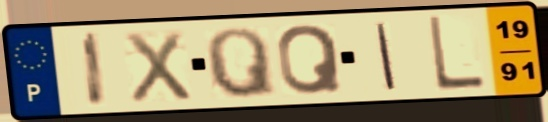I: (80, 30, 109, 108), (373, 21, 399, 92)
L: (424, 14, 487, 94)
Q: (202, 25, 280, 101), (275, 22, 346, 97)
X: (122, 28, 195, 106)
